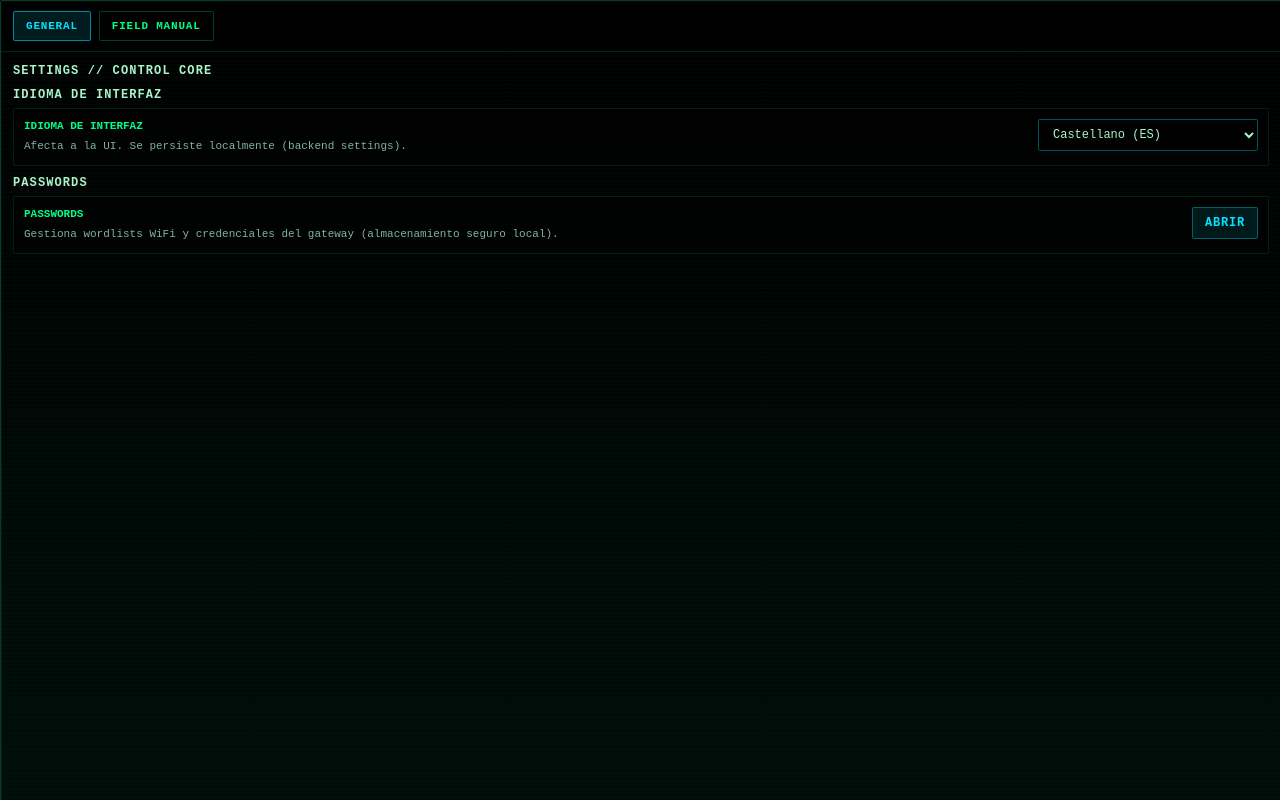
Test: SettingsPanel › debe abrir Password Vault desde Settings
Click the button with aria-label "SETTINGS_OPEN_PASSWORDS".
click(1225, 223)  # box x1=1192 y1=207 x2=1258 y2=239
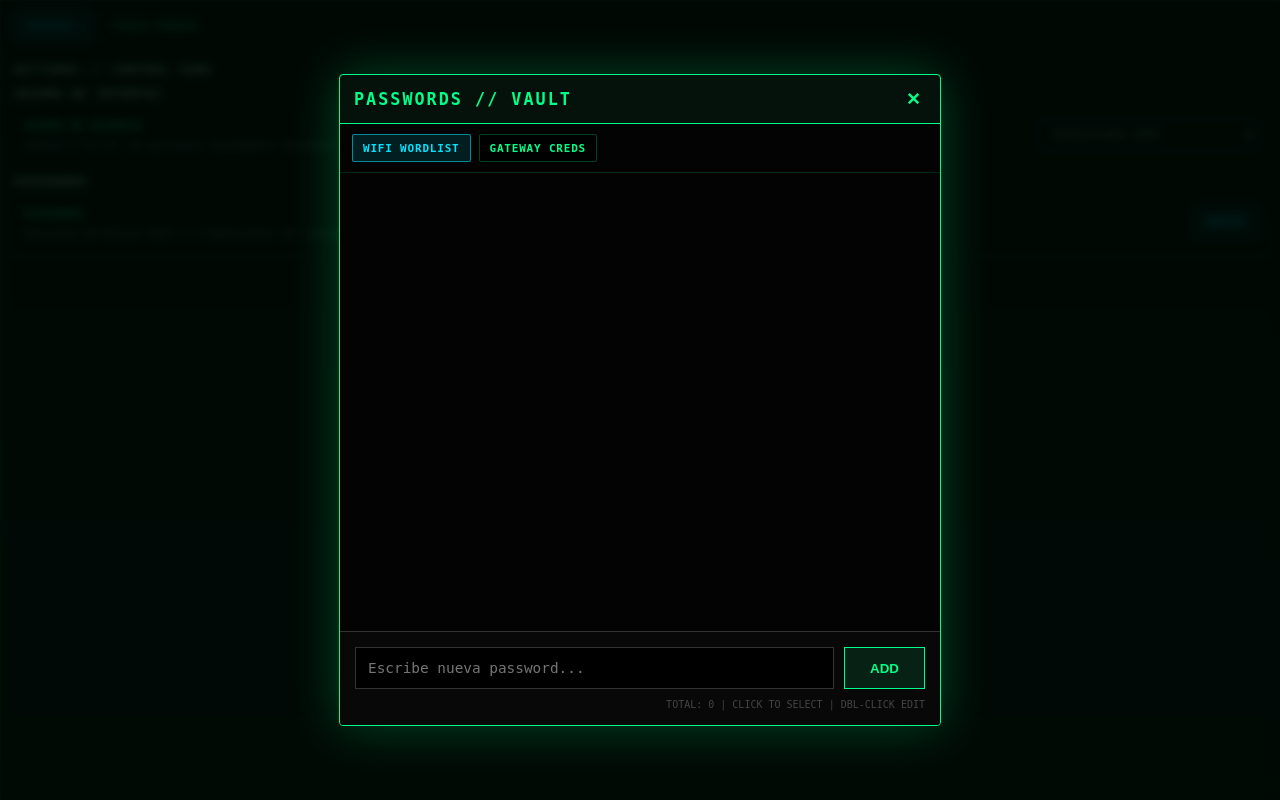
Expected: the text "PASSWORDS // VAULT" is shown, x1=354 y1=89 x2=572 y2=109
